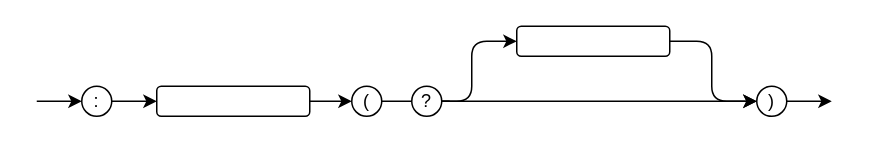
The diagram is 870 pixels wide and 143 high, and some of its shapes have lost their labels. Here are the shapes that lost their labels. From the top down, the centre of each, then its label:
At (x=592, y=40): "filter template".
At (x=232, y=100): "lookup name".
